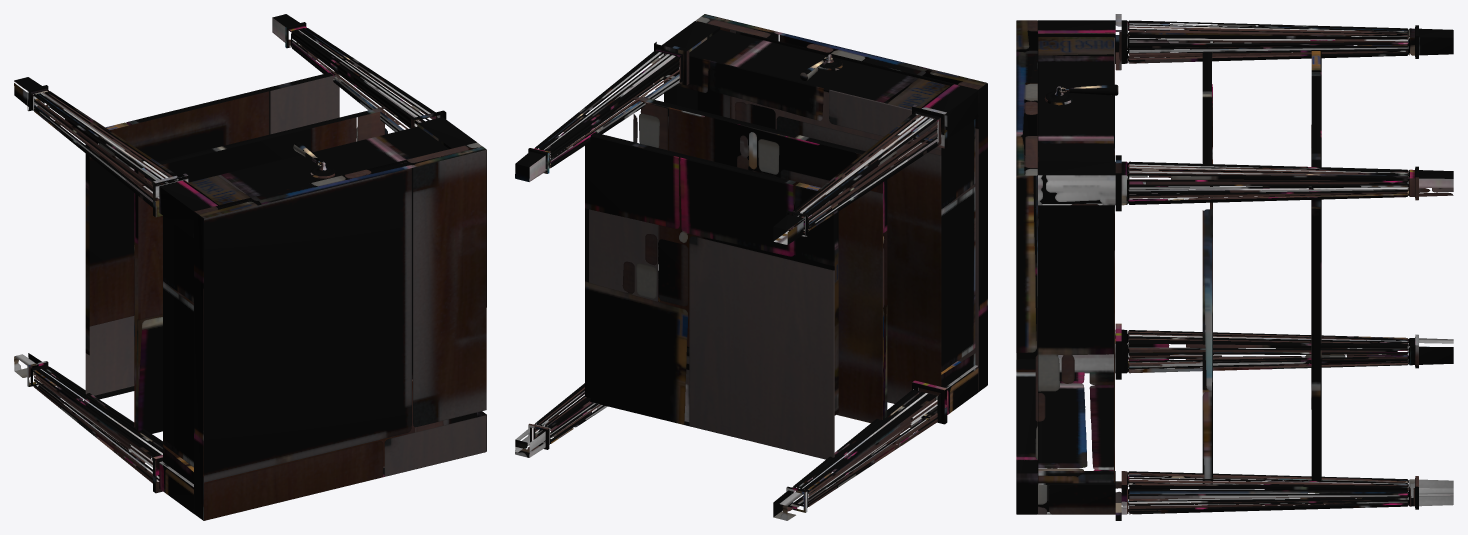
3 views of the same model, side by side, from view 1: azimuth 30°, elevation 25°; view 2: azimuth 150°, elevation 25°; view 3: azimuth 270°, elevation 25° (orthographic). The views are drawn at different scales.
Size of the model in its own units: 0.5174 by 0.5373 by 0.6007.
